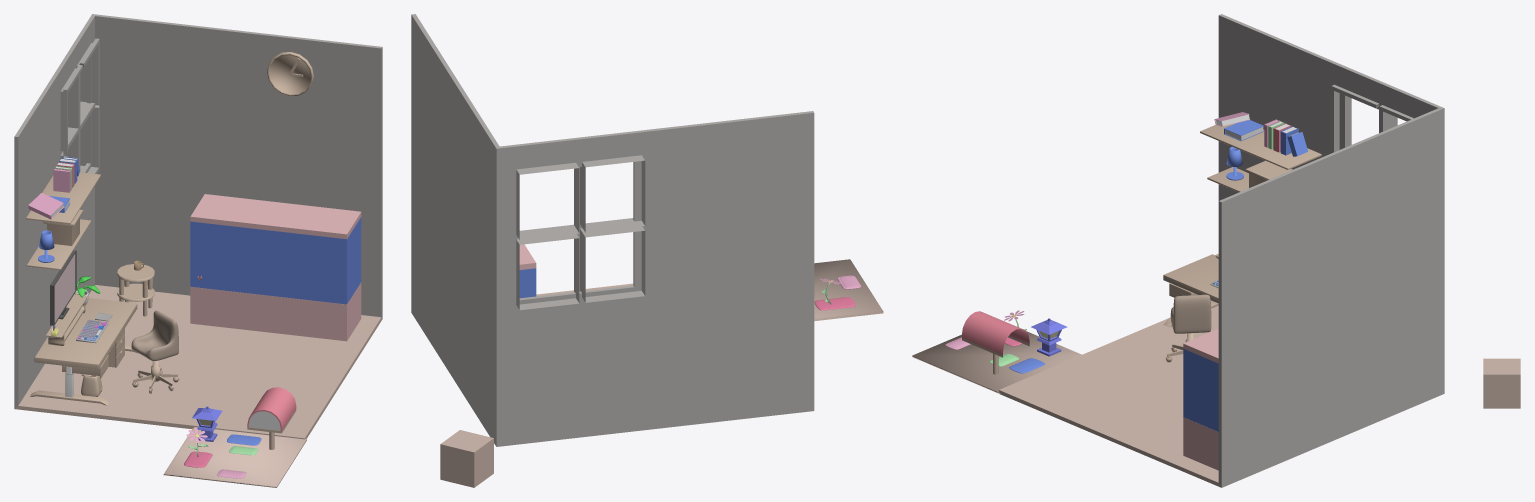
The model's file is Finale Version 5.glb.
3 views of the same model, side by side, from view 1: azimuth 30°, elevation 25°; view 2: azimuth 150°, elevation 25°; view 3: azimuth 270°, elevation 25° (orthographic). The views are drawn at different scales.
Parts seen in each view (by area): view 1: Body, Aquarium, Desks, Shelves, MiniFloor, Table Stuff, Mailbox, Clock, Chair, FloorItems, computer, Lamp; view 2: Body, Cube.002, MiniFloor, Aquarium; view 3: Body, Shelves, Aquarium, MiniFloor, Cube.002, Mailbox, Desks, Chair, Lamp.
Boxes of the visible parts, x1,y1,x2,y2 form: Body: [14, 14, 382, 439]; Aquarium: [190, 194, 361, 341]; Desks: [30, 264, 154, 405]; Shelves: [26, 156, 100, 270]; MiniFloor: [163, 427, 306, 487]; Table Stuff: [46, 260, 143, 345]; Mailbox: [247, 387, 296, 449]; Clock: [267, 52, 313, 96]; Chair: [131, 310, 178, 360]; FloorItems: [81, 328, 179, 396]; computer: [50, 250, 76, 325]; Lamp: [192, 406, 222, 441]; Body: [411, 14, 814, 446]; Cube.002: [440, 430, 493, 487]; MiniFloor: [814, 259, 883, 321]; Aquarium: [519, 244, 536, 298]; Body: [999, 14, 1444, 487]; Shelves: [1200, 112, 1321, 192]; Aquarium: [1183, 329, 1218, 470]; MiniFloor: [912, 331, 1081, 393]; Cube.002: [1483, 358, 1520, 408]; Mailbox: [962, 311, 1029, 374]; Desks: [1163, 254, 1218, 327]; Chair: [1170, 294, 1211, 333]; Lamp: [1031, 318, 1067, 356].
Bounding box in the file's own units: 23.76 × 17.22 × 32.44.
